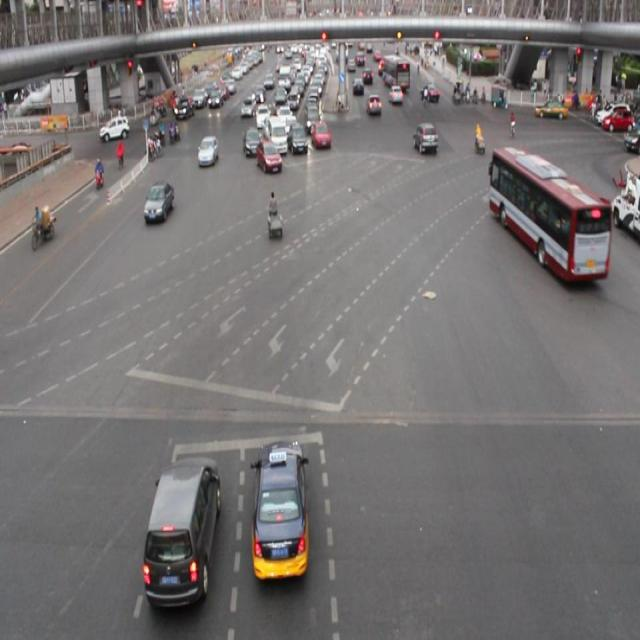car: (251, 438, 310, 584), (144, 181, 174, 222), (255, 140, 280, 172), (412, 122, 437, 154), (198, 133, 220, 168), (287, 123, 309, 156), (310, 118, 330, 150), (242, 126, 260, 155)
truck: (143, 453, 219, 607), (264, 116, 287, 154)
van: (487, 148, 606, 277)
